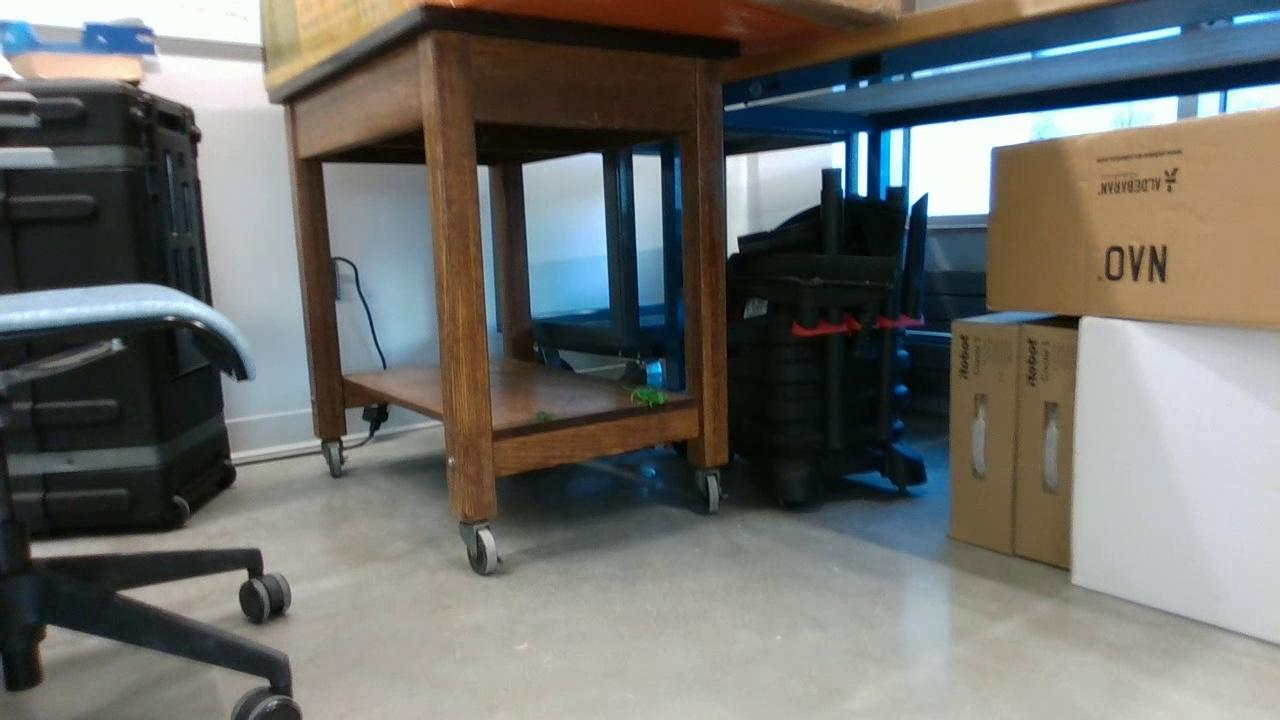grasshopper: (621, 387, 669, 409)
